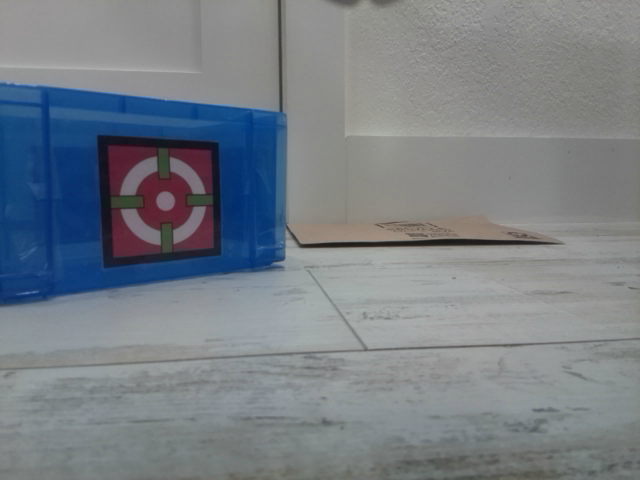drop-bin: (97, 135, 222, 268)
